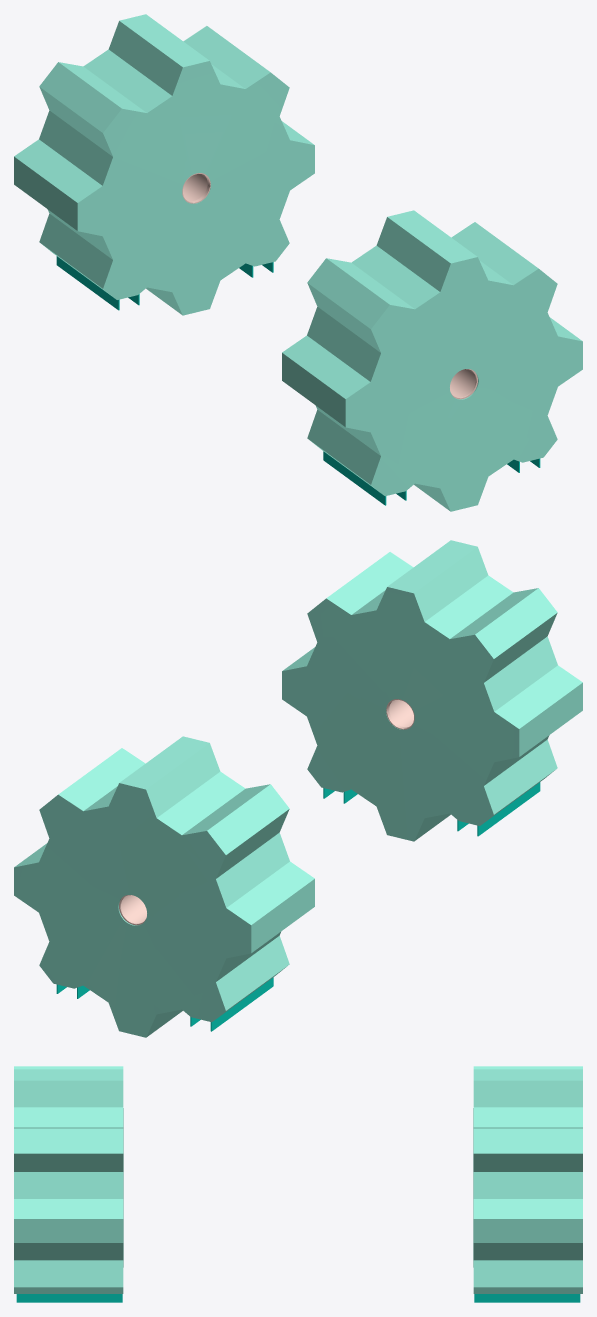
The model's file is magnet-toroid-endcap.glb.
3 renders of one model, top to bottom at view 1: azimuth 30°, elevation 25°; view 2: azimuth 150°, elevation 25°; view 3: azimuth 270°, elevation 25°, orthographic. The views are drawn at different scales.
Parts seen in each view (by area): view 1: endcap toroid side C, endcap toroid side A; view 2: endcap toroid side A, endcap toroid side C; view 3: endcap toroid side A, endcap toroid side C.
Part boxes in pixels (x1,y1,x2,y2): endcap toroid side C: [14, 14, 314, 315]; endcap toroid side A: [282, 210, 582, 511]; endcap toroid side A: [282, 540, 582, 841]; endcap toroid side C: [14, 736, 314, 1037]; endcap toroid side A: [14, 1066, 123, 1302]; endcap toroid side C: [473, 1066, 582, 1302].
Size of the model in its own units: 10.64 by 10.64 by 25.77.
